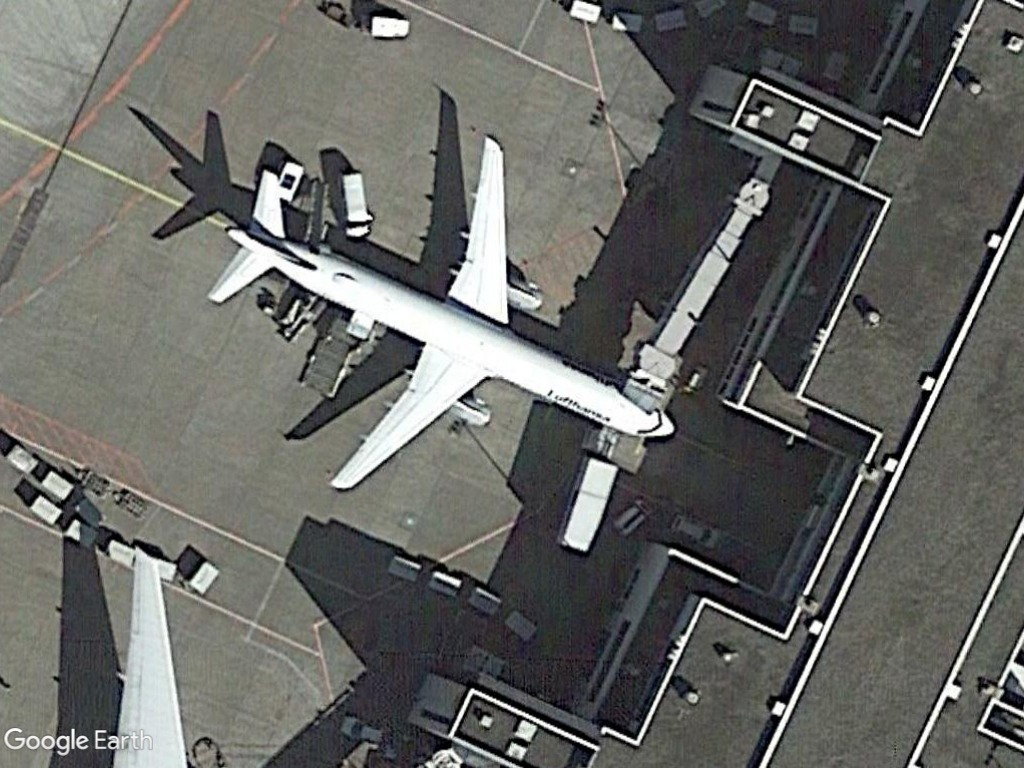airliner: (201, 128, 680, 499)
van: (335, 169, 373, 246)
